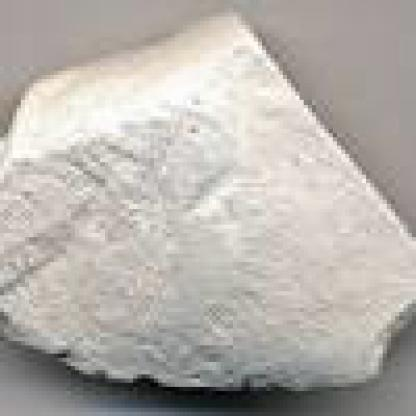Sedimentary_Chalk: (0, 0, 412, 395)
